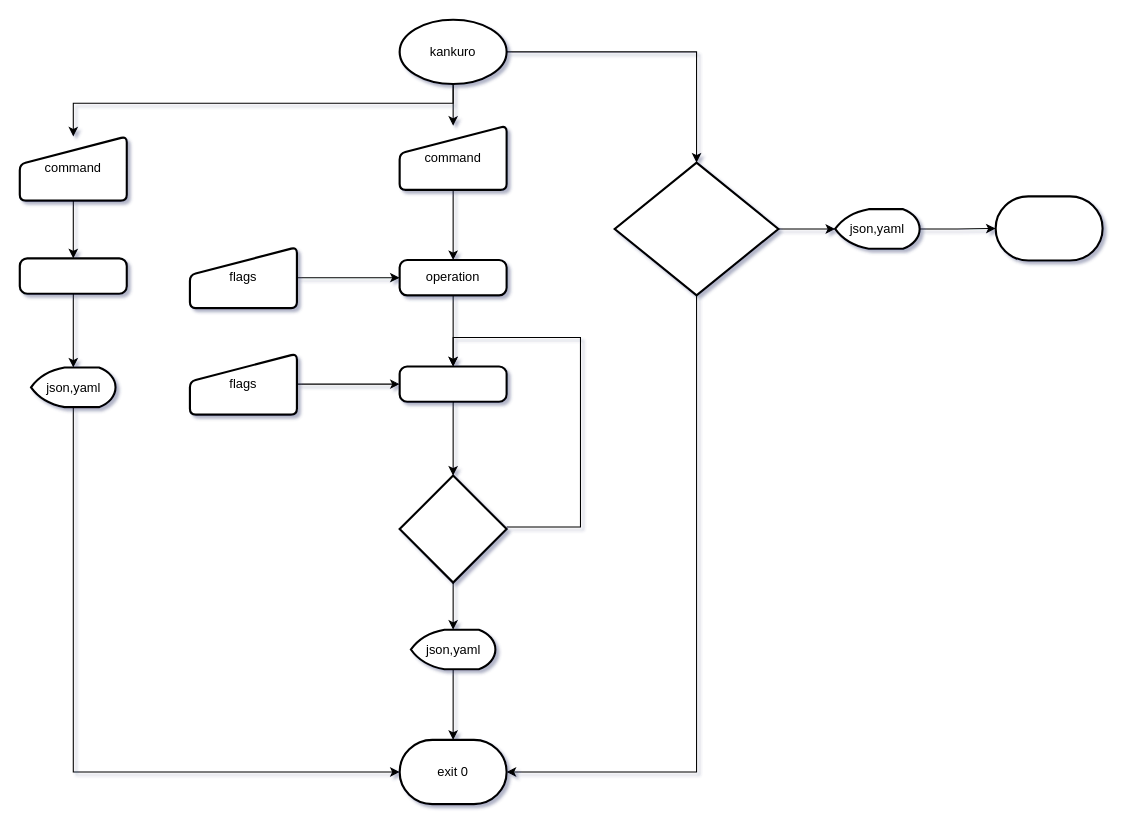
Image size: 1128x829. Some labels were removed from this diagram. The shapes that lost their labels are listed below. From the top down, each one's centre as x and y in pixels, then its label:
At [696,228]: "any errors during the process?".
At [1048,228]: "exit 1".
At [72,275]: "version".
At [452,383]: "resource".
At [452,528]: "There are more resources?".
